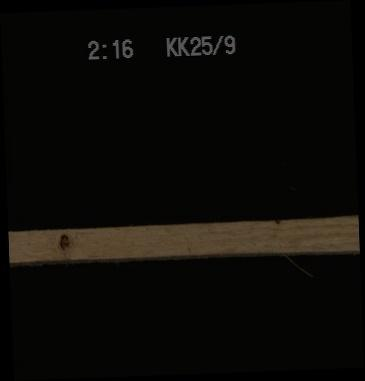dry_knot: (55, 231, 71, 252)
edge_knot: (269, 218, 286, 227)
